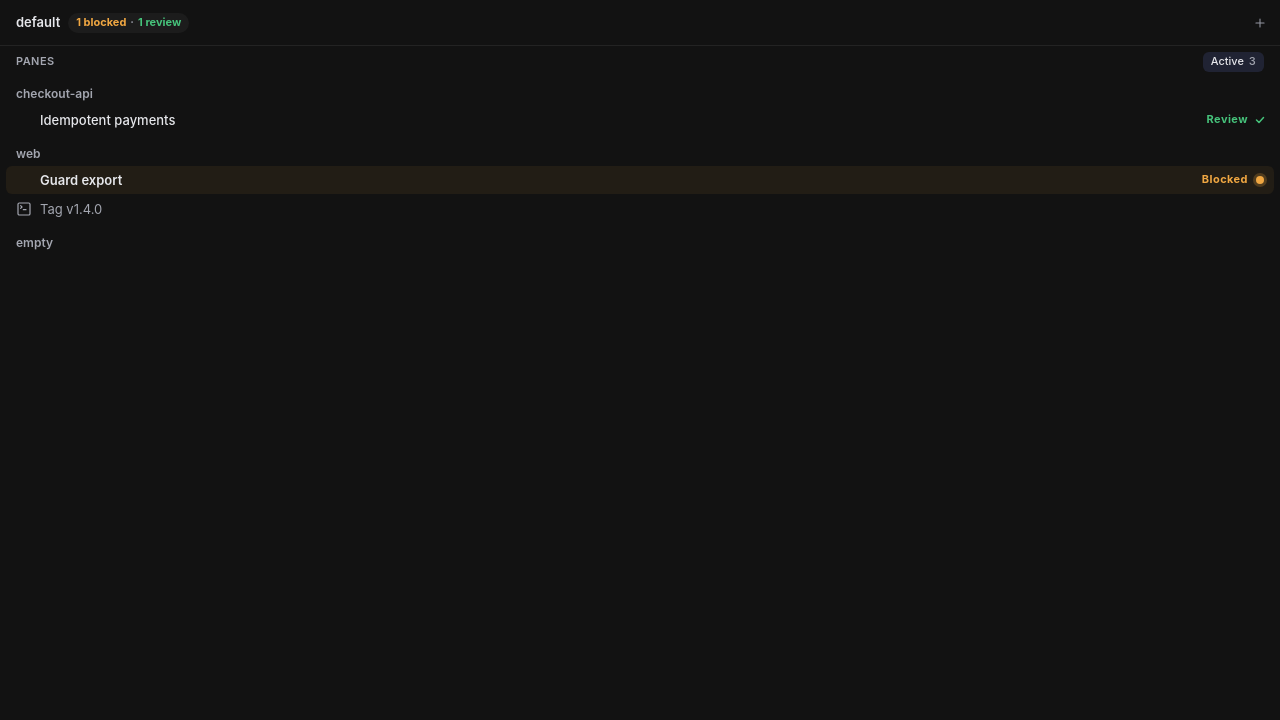
Scenario: AgentList › closing a tab or workspace with work running › names the panes with work running when closing their workspace, Cancel first
Right-click the button "web": (28, 154) [16,146,40,162]
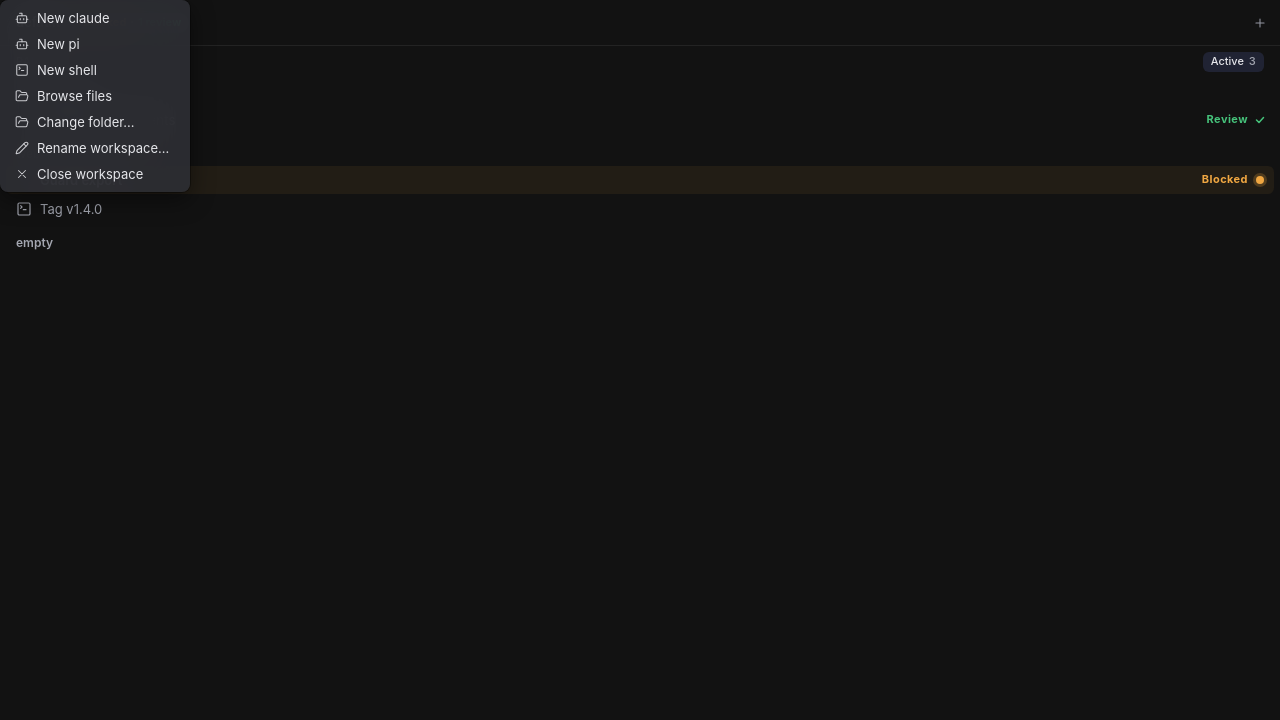
Click the menu item "Close workspace": click(95, 174) [5,161,185,187]
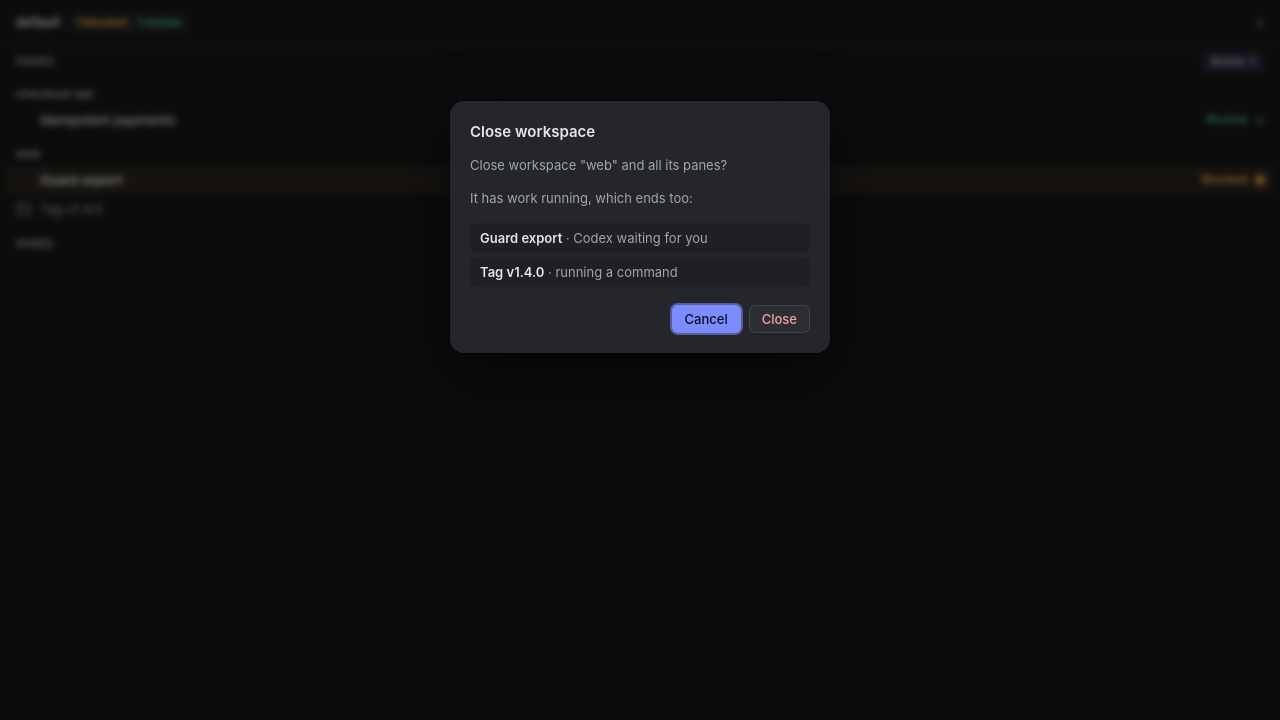
Now the text "It has work running, which ends too:" is shown, box [470,190,693,206]
Now the button "Cancel" is shown, box [672,305,741,333]
